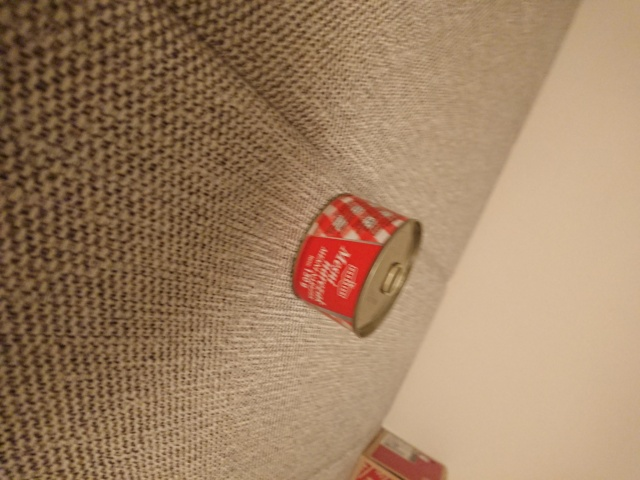Podravka Luncheon Meat 150g: (288, 190, 426, 341)
